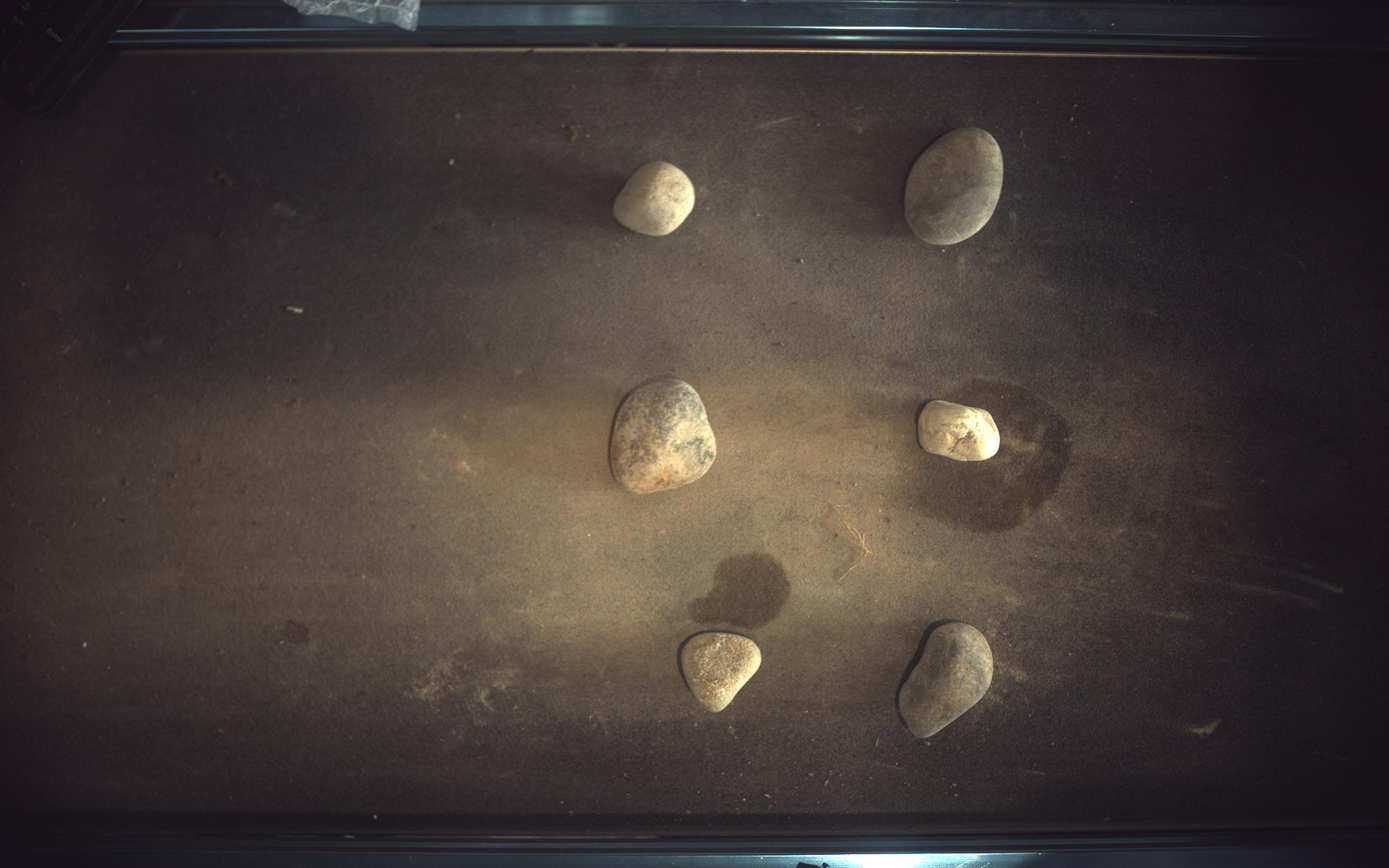stone: (611, 378, 718, 494), (906, 127, 1006, 245), (900, 624, 995, 739), (681, 633, 763, 713), (613, 160, 696, 235), (919, 400, 1002, 461)
